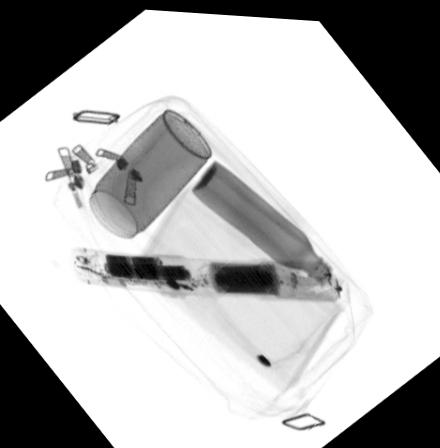Baton: (68, 246, 343, 301)
